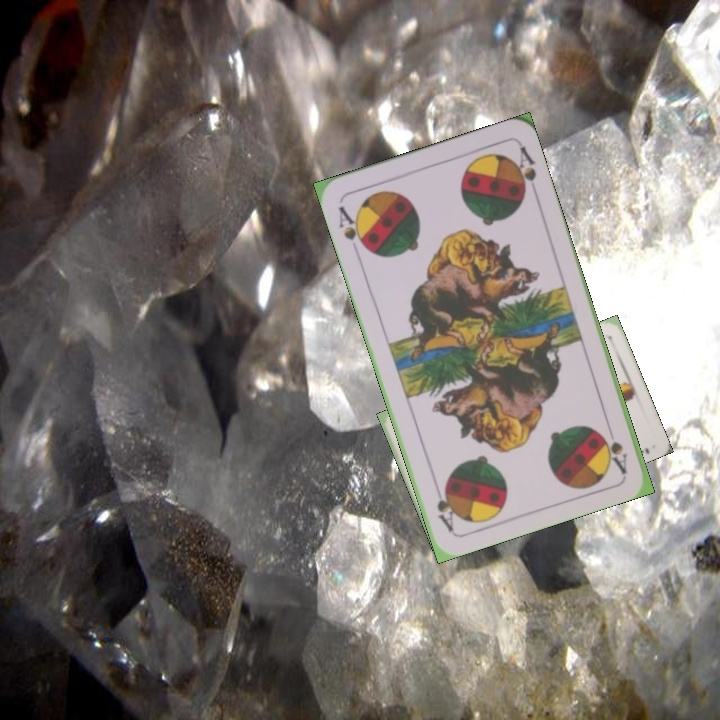SA: (334, 202, 371, 253), (598, 429, 630, 476)
